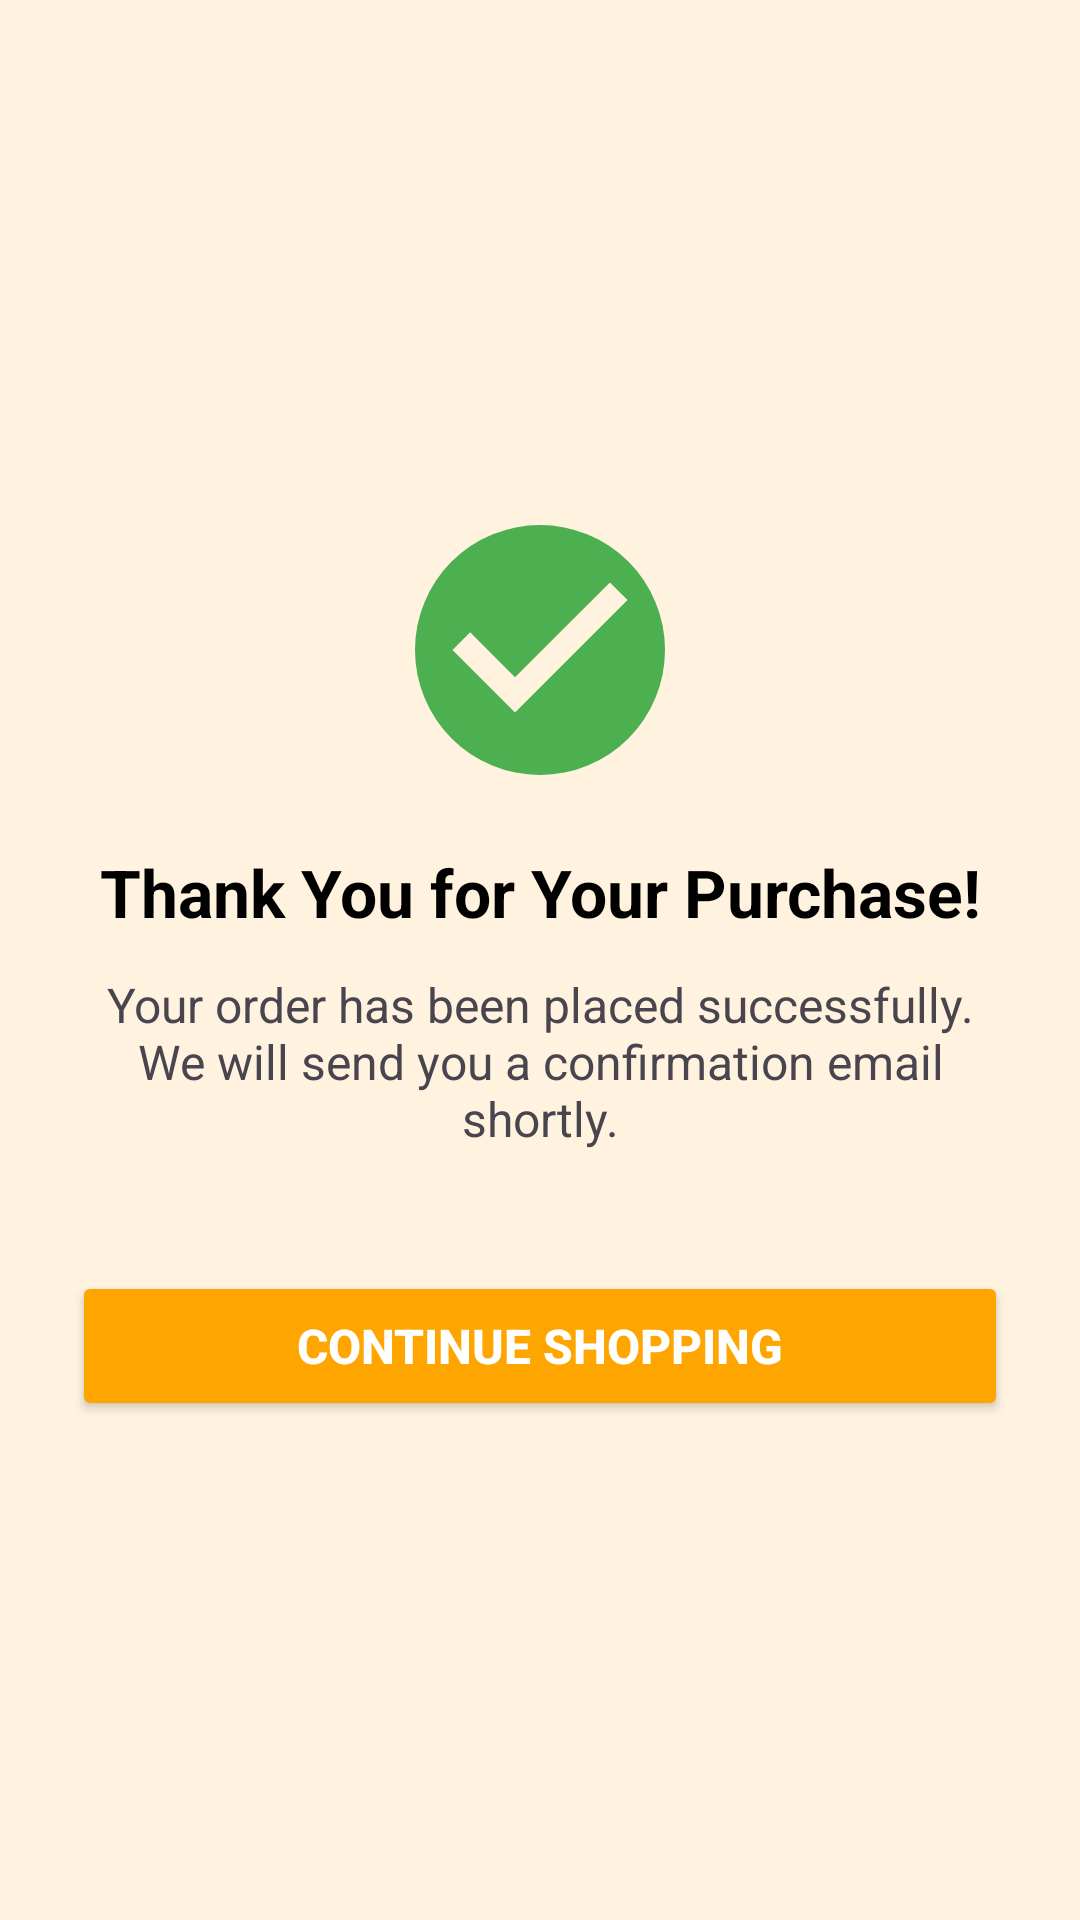

Named icons in this screenshot (1080 × 1920) and their centers, [x,y]:
Success: [540,650]
